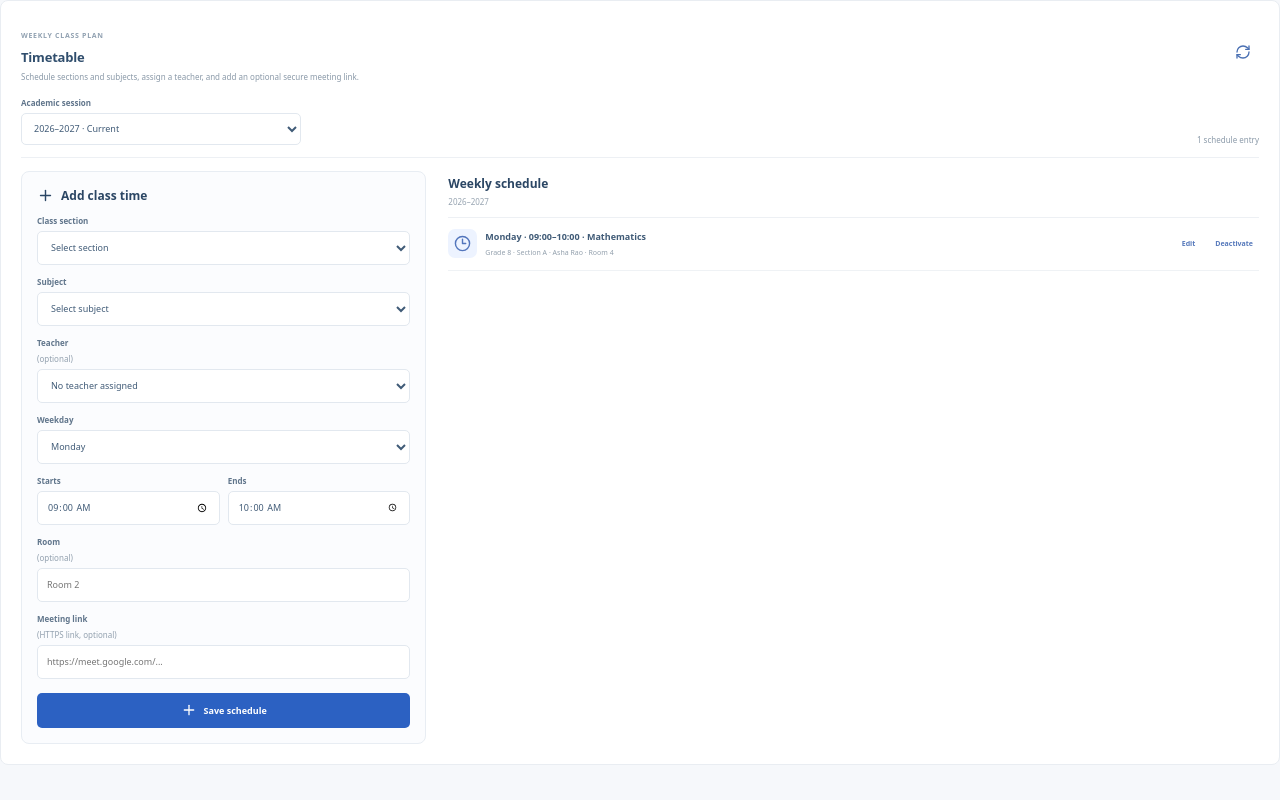
it: timetable entry editing › prefills an existing class time and saves edits through the timetable update endpoint
The width and height of the screenshot is (1280, 800).
Click the button with aria-label "Edit Monday Mathematics timetable entry": (1189, 244) [1176,238,1201,249]
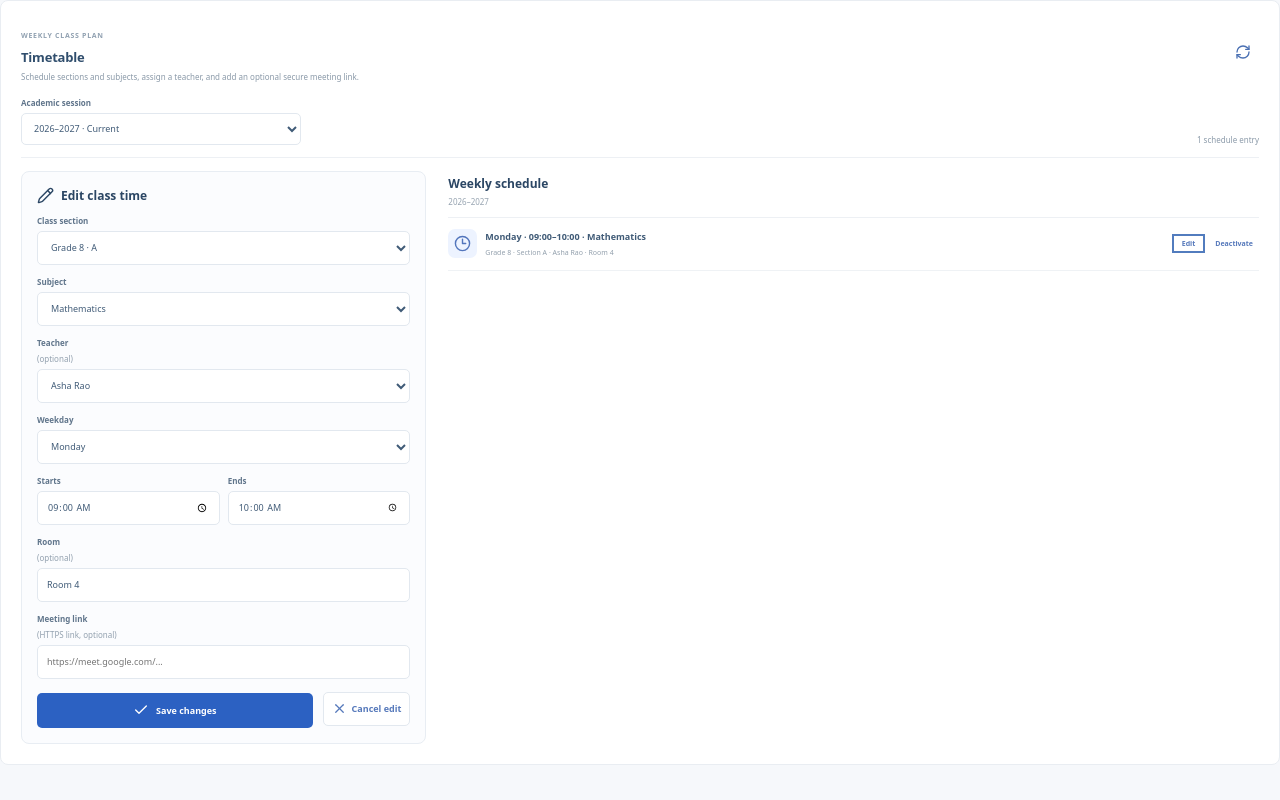
Check: the heading "Edit class time" is shown, box [37,187,147,204]
Check: the field labelled "Room (optional)" holds "Room 4", box [37,568,410,602]
Replace the text in the time field labelled "Starts" with "10:00": (128, 508) [37,491,220,525]
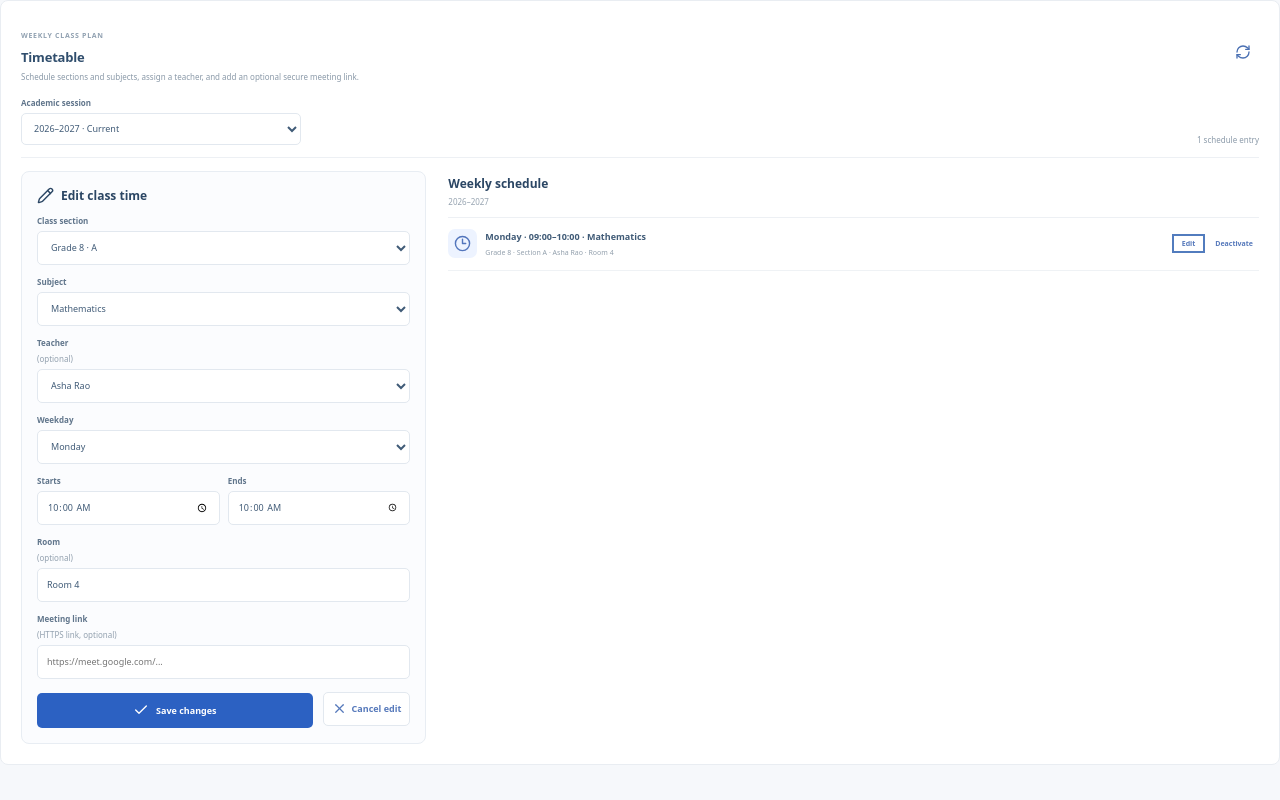
Replace the text in the time field labelled "Ends" with "11:00": (319, 508) [228,491,410,525]
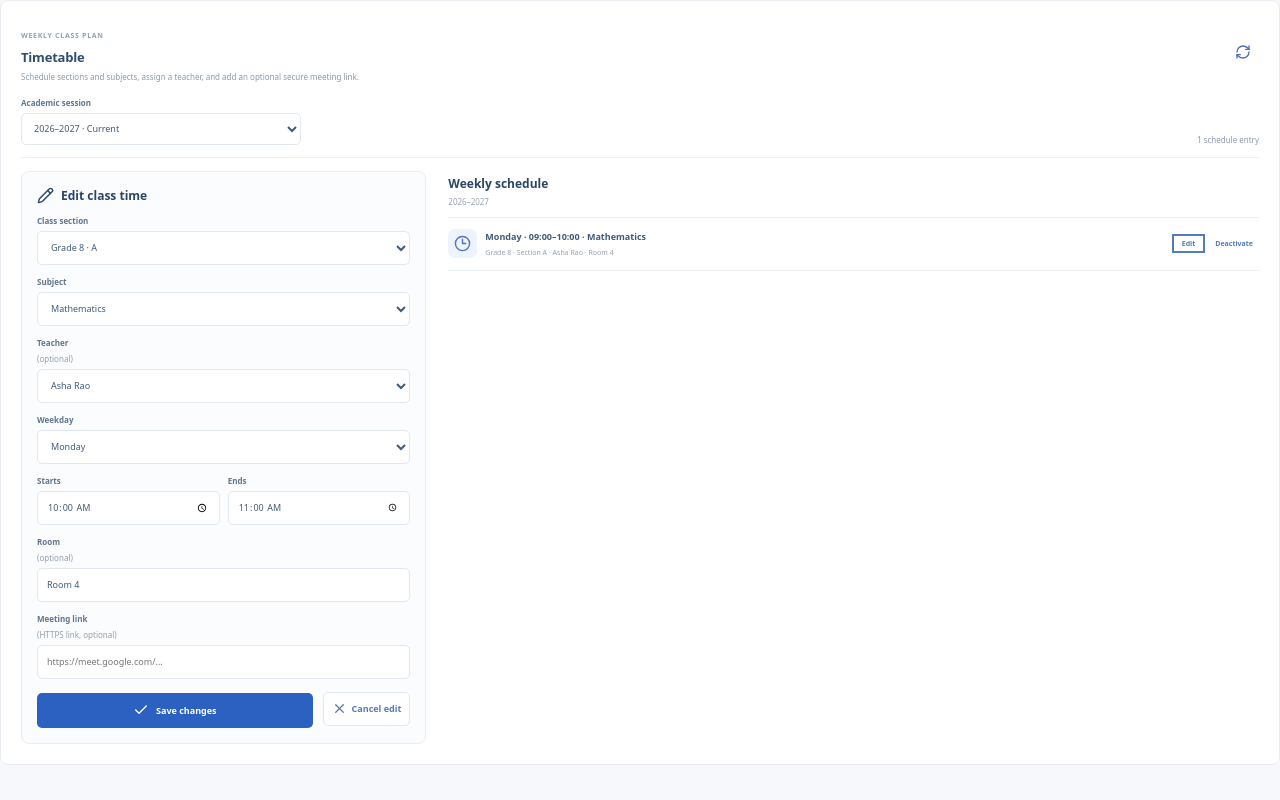
Click the button "Save changes": (175, 710) [37,693,312,728]
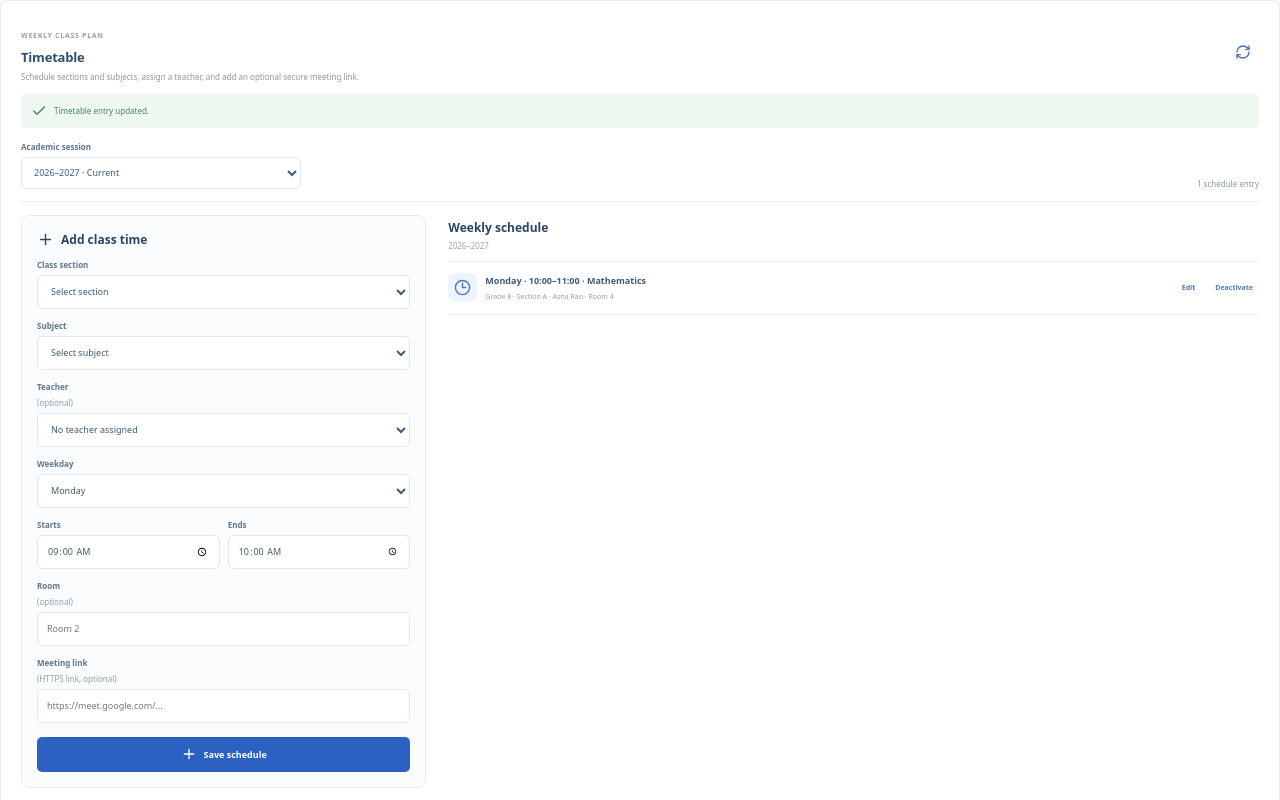
Check: the message reads "Timetable entry updated.", box [54,105,149,116]
Check: the text "Monday · 10:00–11:00 · Mathematics" is shown, box [485,274,646,287]
Check: the heading "Add class time" is shown, box [37,231,148,248]
